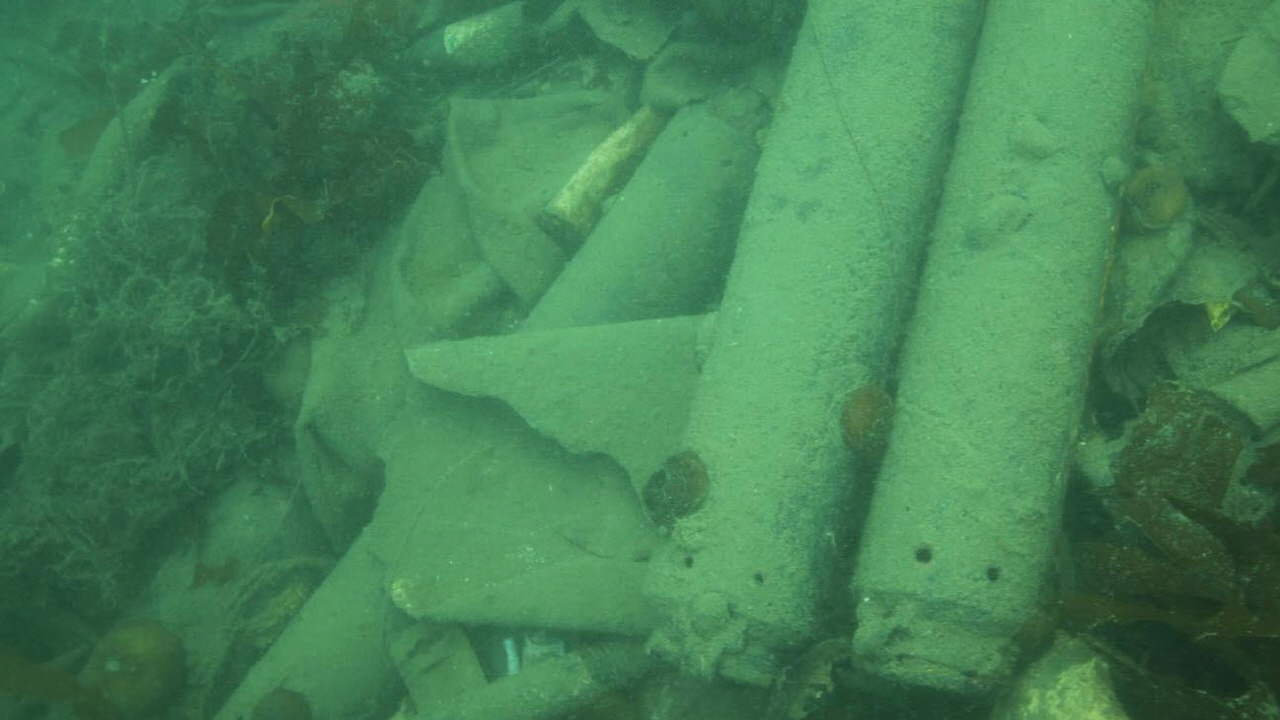eel fish trap: (639, 0, 981, 683), (845, 0, 1156, 696)
